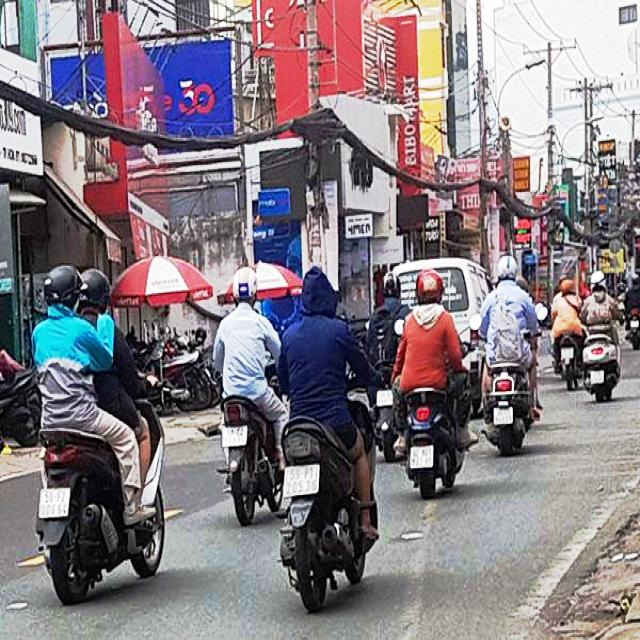license_plate: (285, 464, 320, 496), (41, 489, 70, 517)
